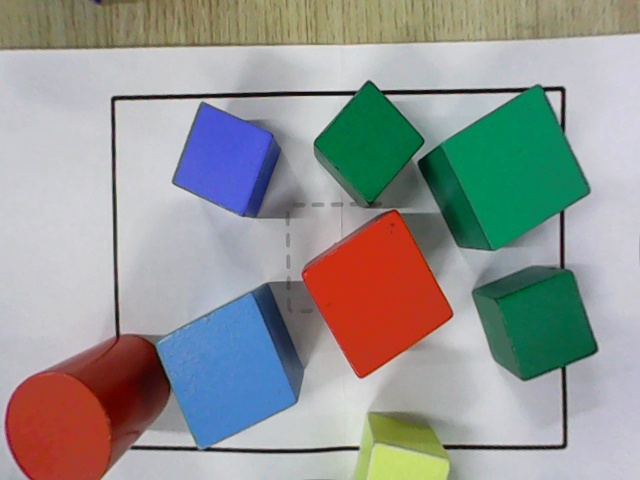upside of big cube: (303, 210, 454, 379), (438, 84, 590, 251), (152, 292, 298, 451)
upside of cylinder: (5, 370, 112, 479)
upside of small cube: (314, 79, 424, 204), (496, 269, 599, 384), (171, 103, 274, 216), (366, 440, 451, 479)
